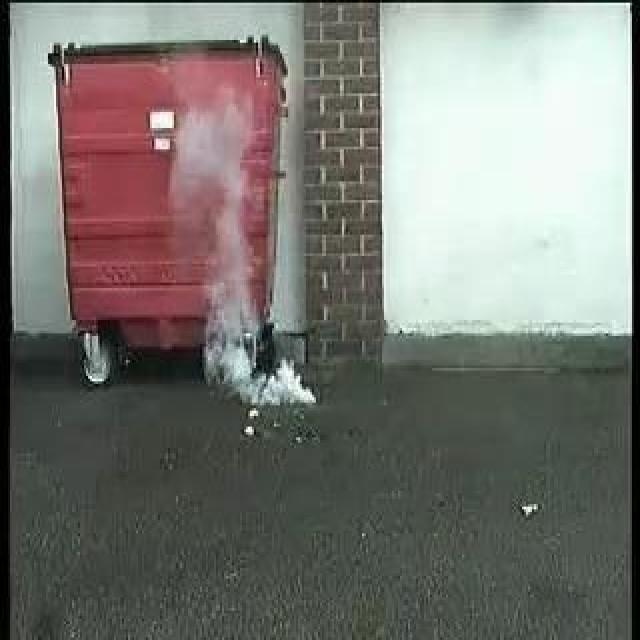Smoke: (173, 105, 315, 412)
